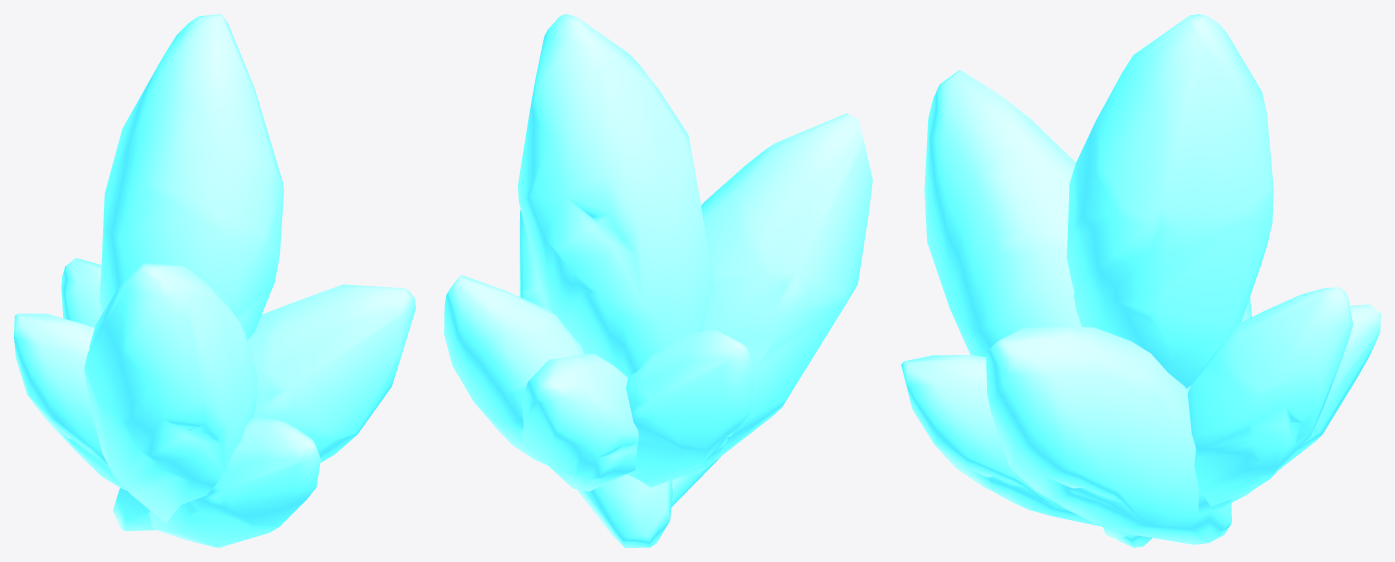
File: BLUE_OBJECT_SOLO.fbx
The picture shows the model from 3 angles, left to right: view 1: azimuth 30°, elevation 25°; view 2: azimuth 150°, elevation 25°; view 3: azimuth 270°, elevation 25°; orthographic projection. The views are drawn at different scales.
Parts seen in each view (by area): view 1: BetterCrystal01__1_; view 2: BetterCrystal01__1_; view 3: BetterCrystal01__1_.
Part boxes in pixels (x1,y1,x2,y2): BetterCrystal01__1_: (14, 14, 415, 547); BetterCrystal01__1_: (444, 14, 872, 547); BetterCrystal01__1_: (901, 14, 1380, 547).
Bounding box in the file's own units: 303 × 458 × 359.
